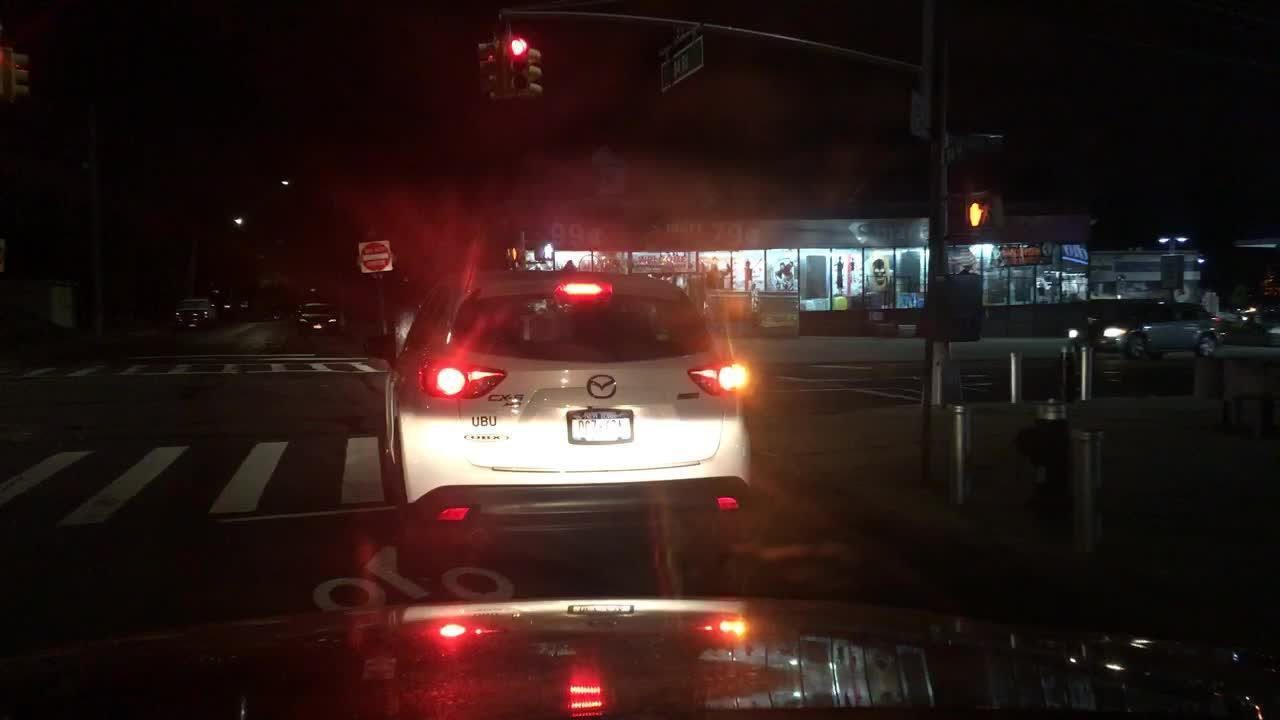Mazda: (577, 368, 628, 412)
